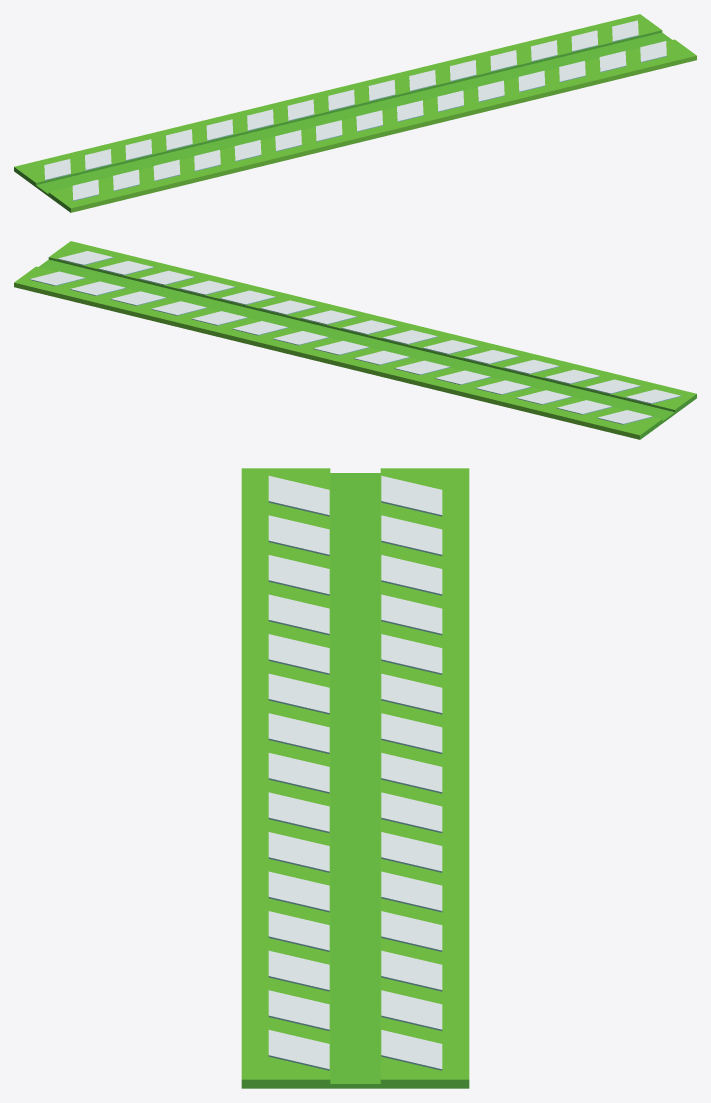
File: ivent floor.fbx
3 renders of one model, top to bottom at view 1: azimuth 30°, elevation 25°; view 2: azimuth 150°, elevation 25°; view 3: azimuth 270°, elevation 25°, orthographic. The views are drawn at different scales.
Parts seen in each view (by area): view 1: ivent floor, Plane, Plane.005; view 2: ivent floor, Plane, Plane.005; view 3: ivent floor, Plane.005, Plane.
Boxes of the visible parts, x1,y1,x2,y2 form: ivent floor: (14, 14, 696, 212); Plane: (72, 41, 666, 200); Plane.005: (44, 20, 638, 180); ivent floor: (14, 241, 696, 439); Plane: (57, 251, 681, 403); Plane.005: (29, 271, 652, 424); ivent floor: (241, 468, 469, 1088); Plane.005: (381, 475, 442, 1070); Plane: (268, 476, 329, 1070).
Size of the model in its own units: 2235 by 18.15 by 351.
